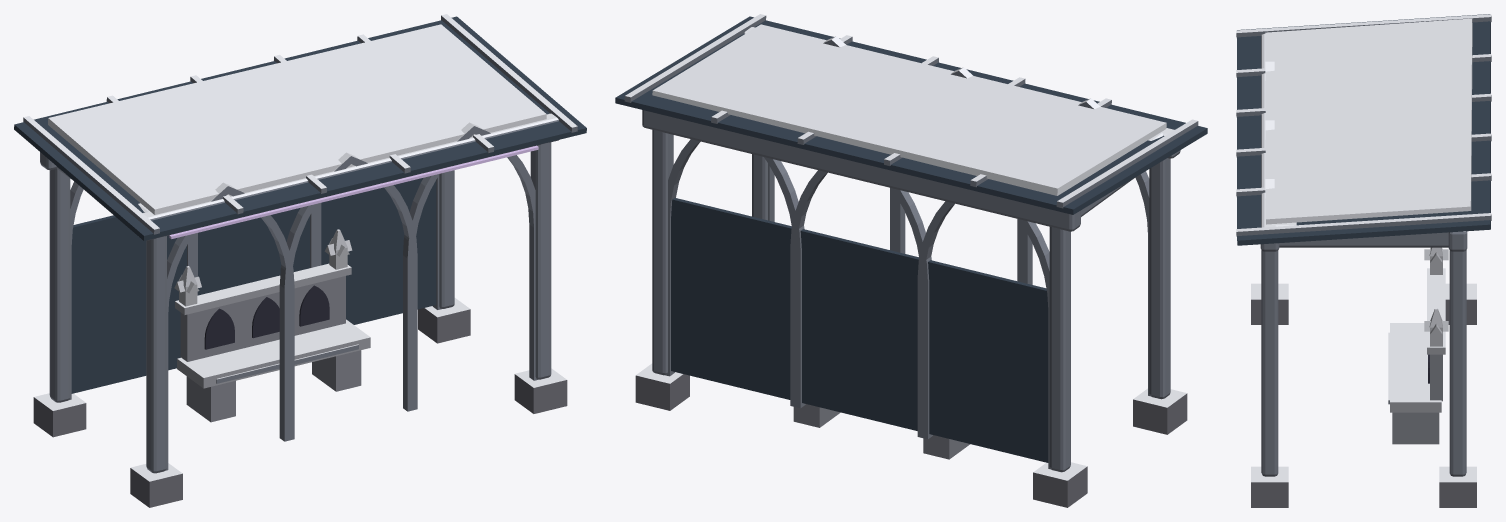
Rendered from PR_Abrigo_Espera.fbx.
3 views of the same model, side by side, from view 1: azimuth 30°, elevation 25°; view 2: azimuth 150°, elevation 25°; view 3: azimuth 270°, elevation 25° (orthographic). The views are drawn at different scales.
Parts seen in each view (by area): view 1: PR_Abrigo_Espera; view 2: PR_Abrigo_Espera; view 3: PR_Abrigo_Espera.
Part boxes in pixels (x1,y1,x2,y2): PR_Abrigo_Espera: (14, 14, 586, 507); PR_Abrigo_Espera: (615, 14, 1207, 507); PR_Abrigo_Espera: (1236, 14, 1491, 507).
Size of the model in its own units: 5.3 by 3.48 by 2.72.
